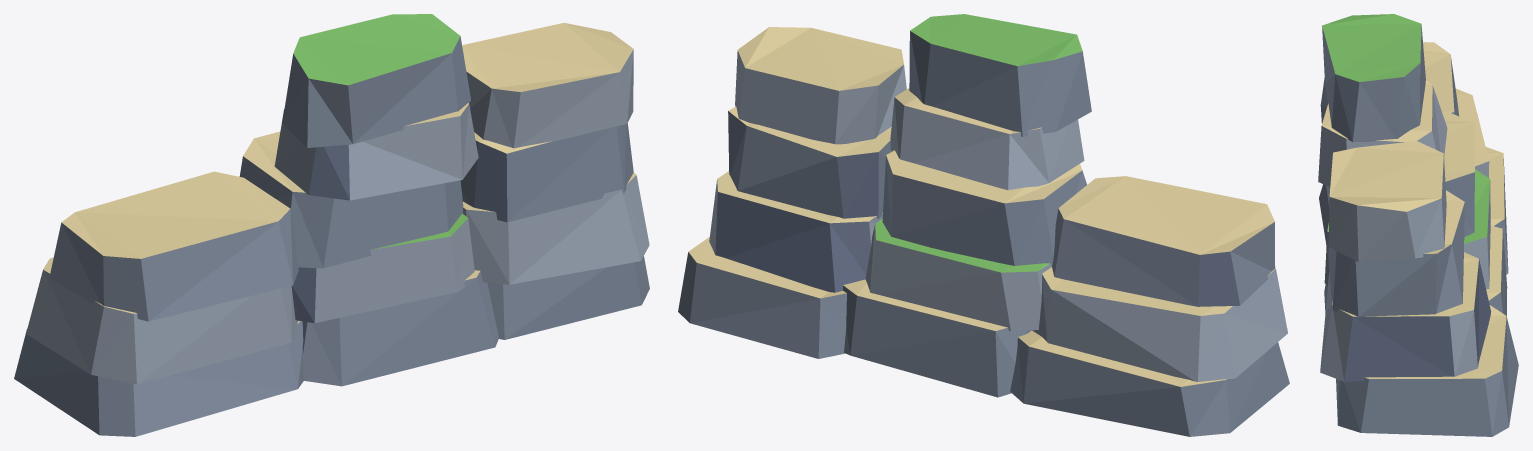
File: rock_wall_reef.fbx
The picture shows the model from 3 angles, left to right: view 1: azimuth 30°, elevation 25°; view 2: azimuth 150°, elevation 25°; view 3: azimuth 270°, elevation 25°; orthographic projection. The views are drawn at different scales.
Visible parts, largest first — view 1: rock_wall_reef; view 2: rock_wall_reef; view 3: rock_wall_reef.
Boxes of the visible parts, left/top/right/bottom form: rock_wall_reef: left=14, top=14, right=649, bottom=436; rock_wall_reef: left=678, top=14, right=1289, bottom=436; rock_wall_reef: left=1318, top=14, right=1518, bottom=436.
Size of the model in its own units: 3588 by 1844 by 1218.
1 material, 1 textured.
